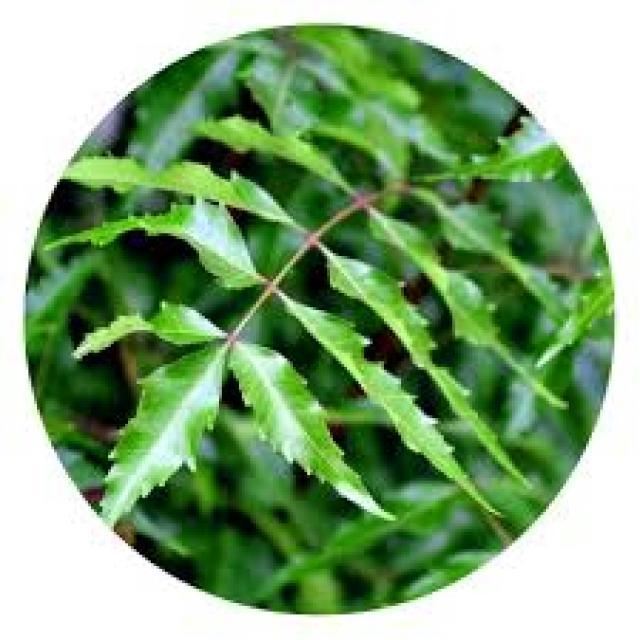Wet: (122, 296, 370, 506)
